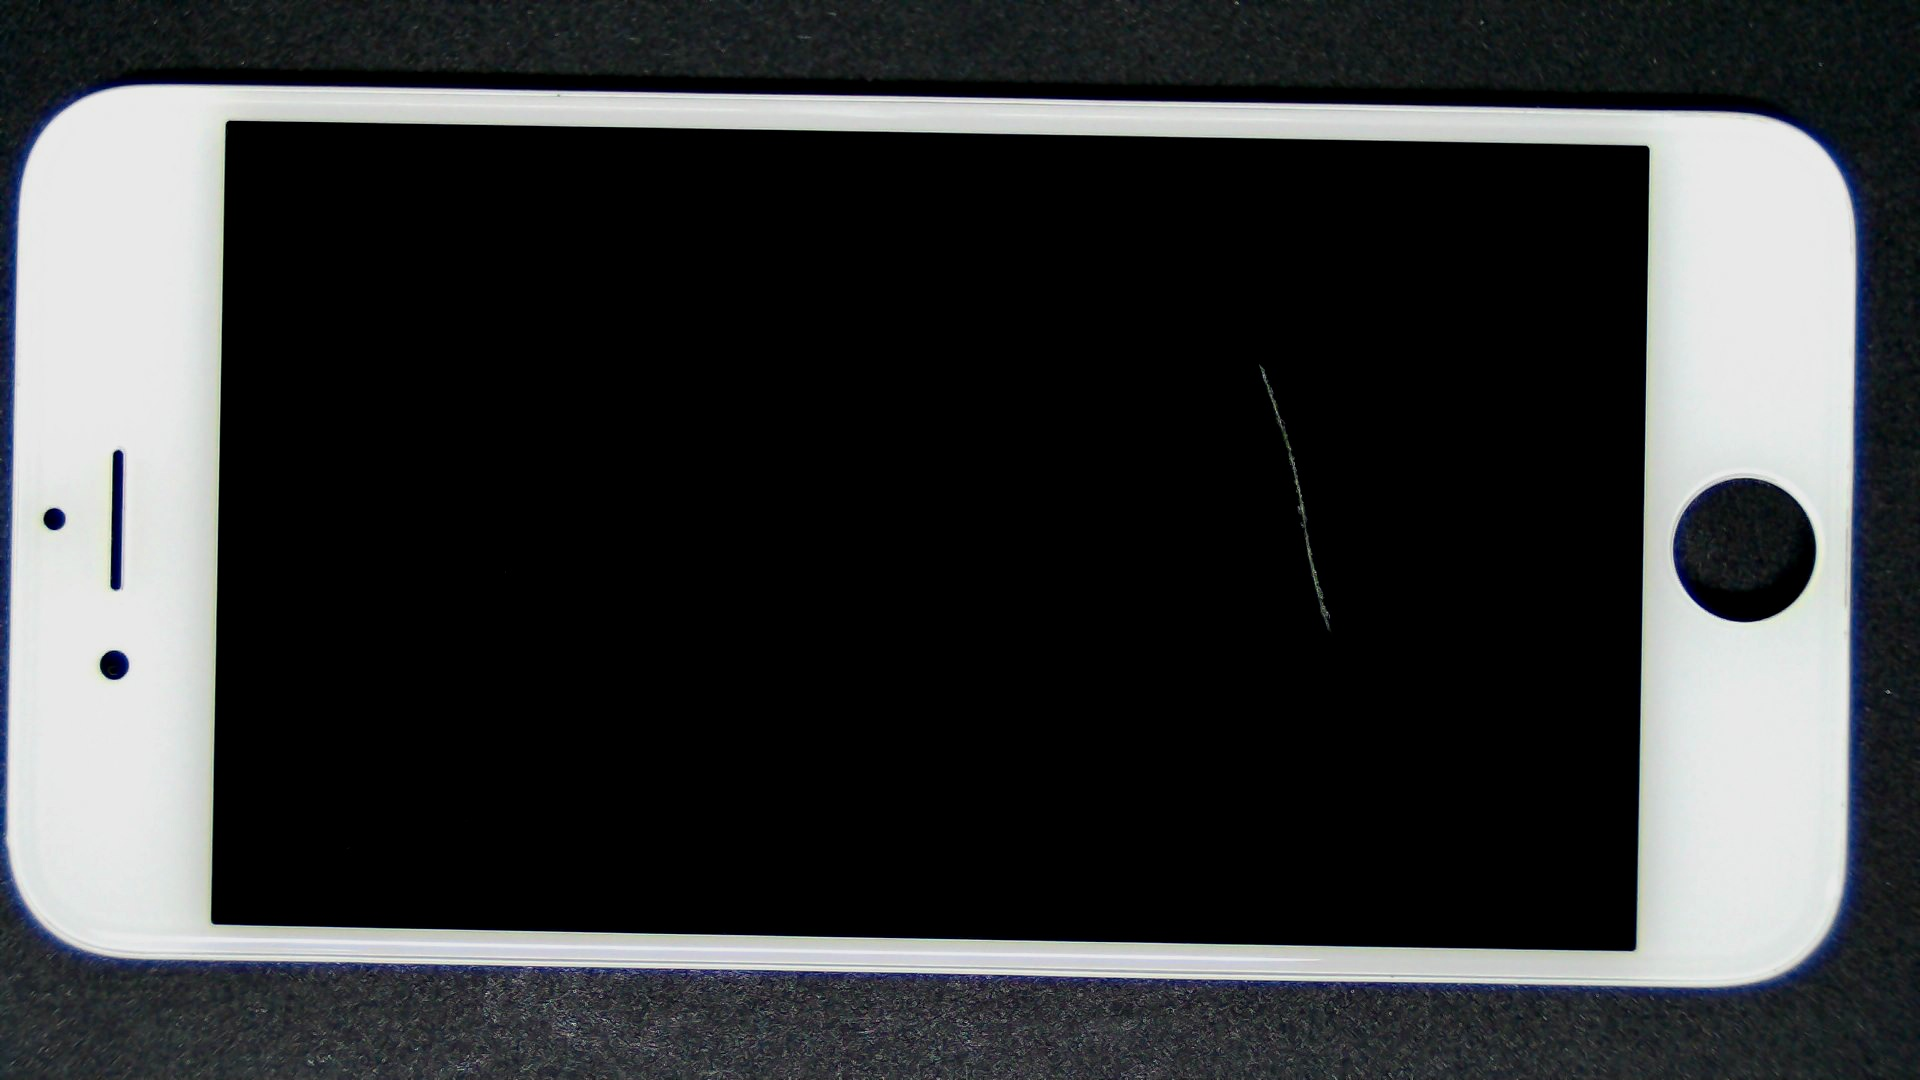oil: (630, 181, 1888, 543)
